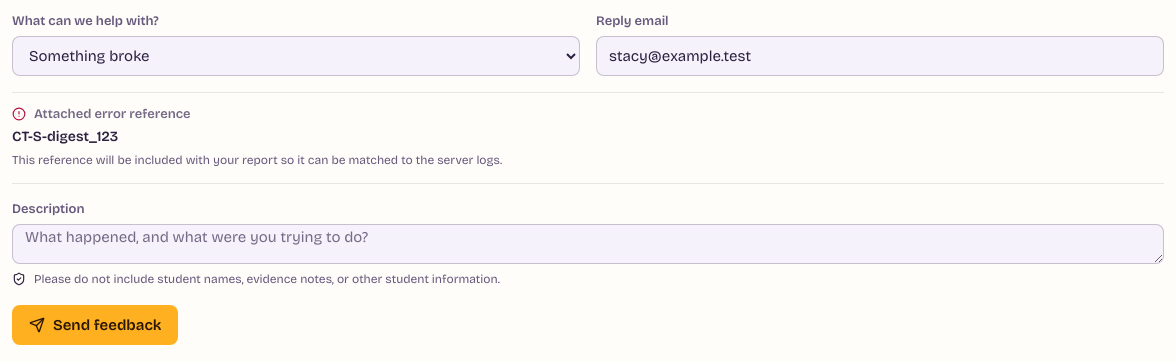
Test: HelpFeedbackForm › attaches a validated error reference and clears it only after success
The width and height of the screenshot is (1176, 362).
Check: the dropdown labelled "What can we help with?" shows "Something broke", box x1=12 y1=36 x2=580 y2=76
Check: the text "CT-S-digest_123" is shown, box x1=12 y1=128 x2=118 y2=145
In the text box labelled "Description": [588, 244] box x1=12 y1=224 x2=1164 y2=264, type "The page stopped while I was saving."
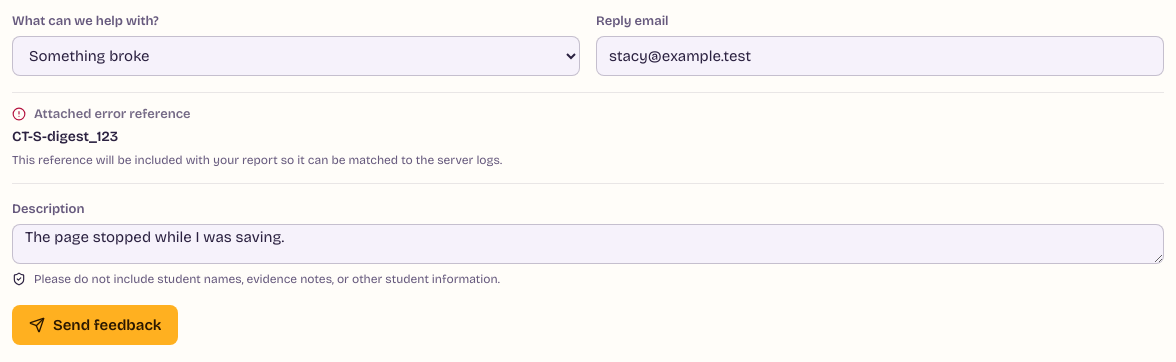
Click the button "Send feedback": [95, 325] box x1=12 y1=305 x2=178 y2=345
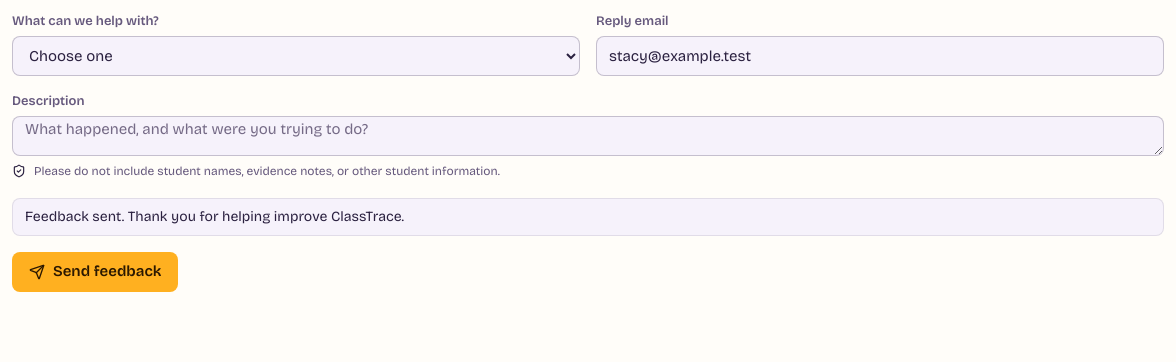
Check: the text "Feedback sent. Thank you for helping improve ClassTrace." is shown, box x1=12 y1=198 x2=1164 y2=236
Check: the text "CT-S-digest_123" is gone
